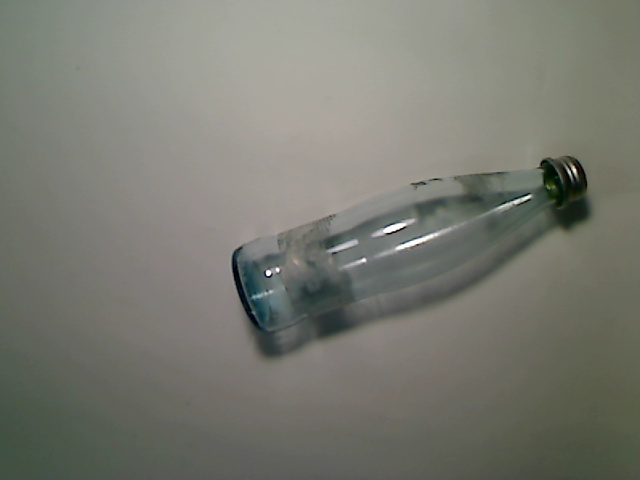bottle: (231, 154, 589, 337)
